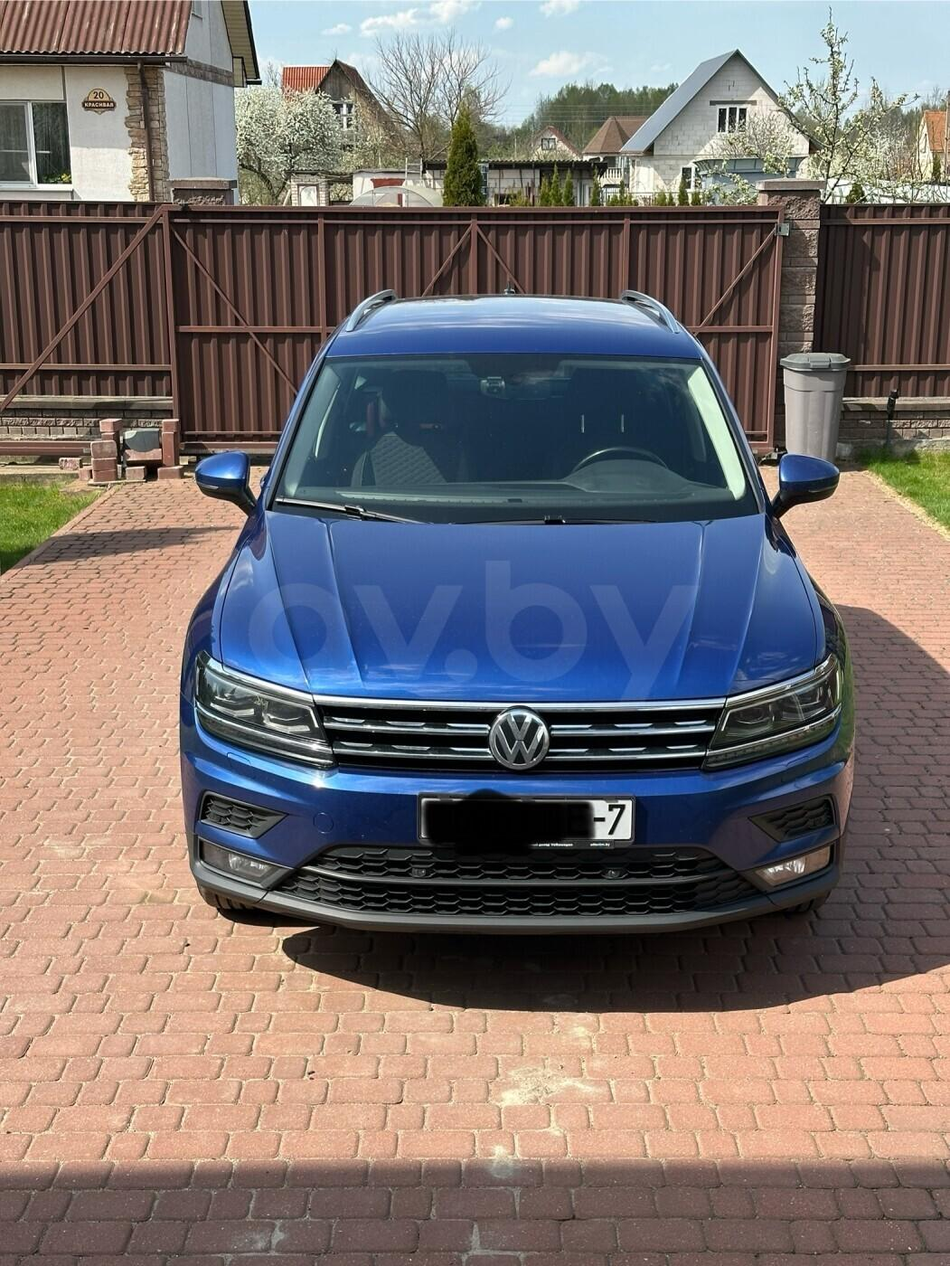Tiguan_2016-2021: (181, 288, 868, 931)
